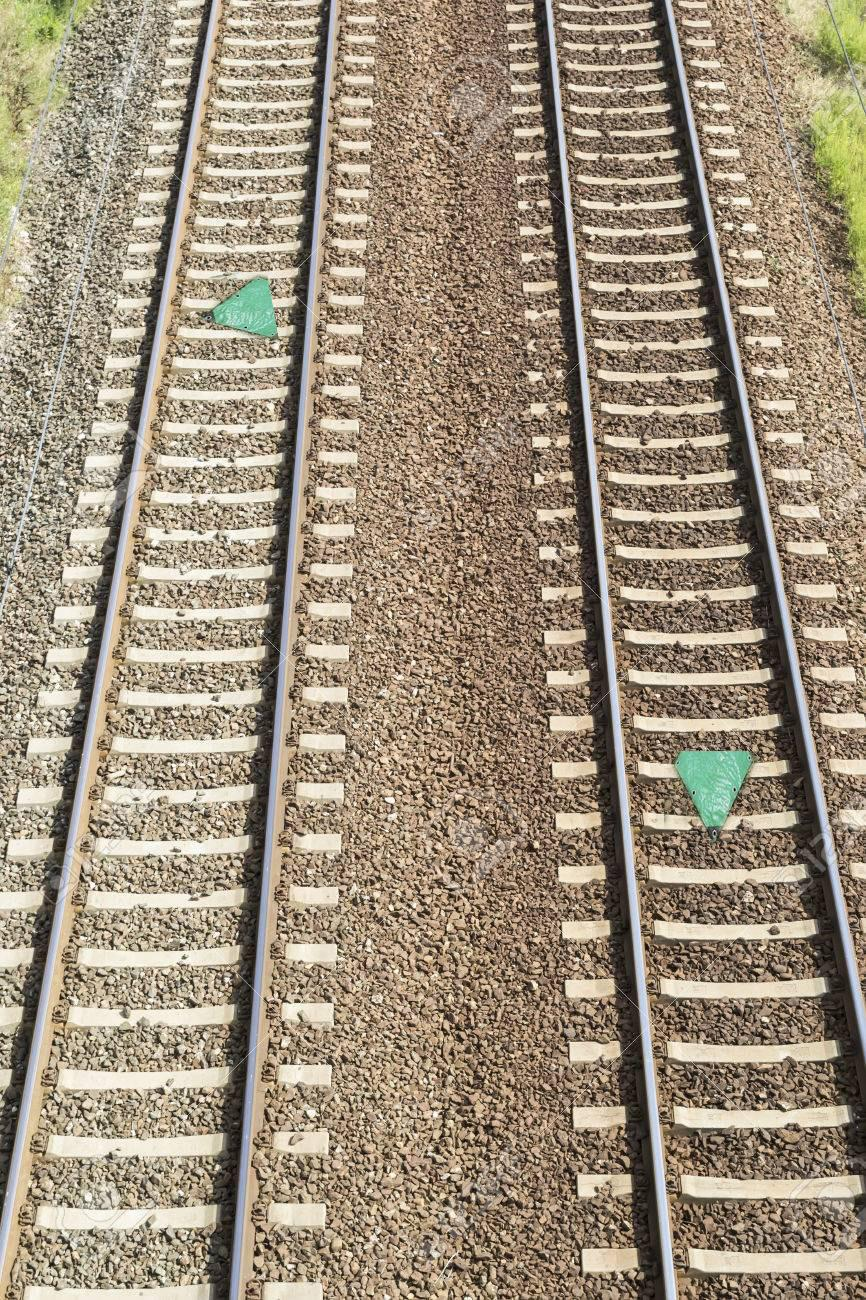Dust_screen: (672, 748, 770, 860), (195, 268, 290, 358)
